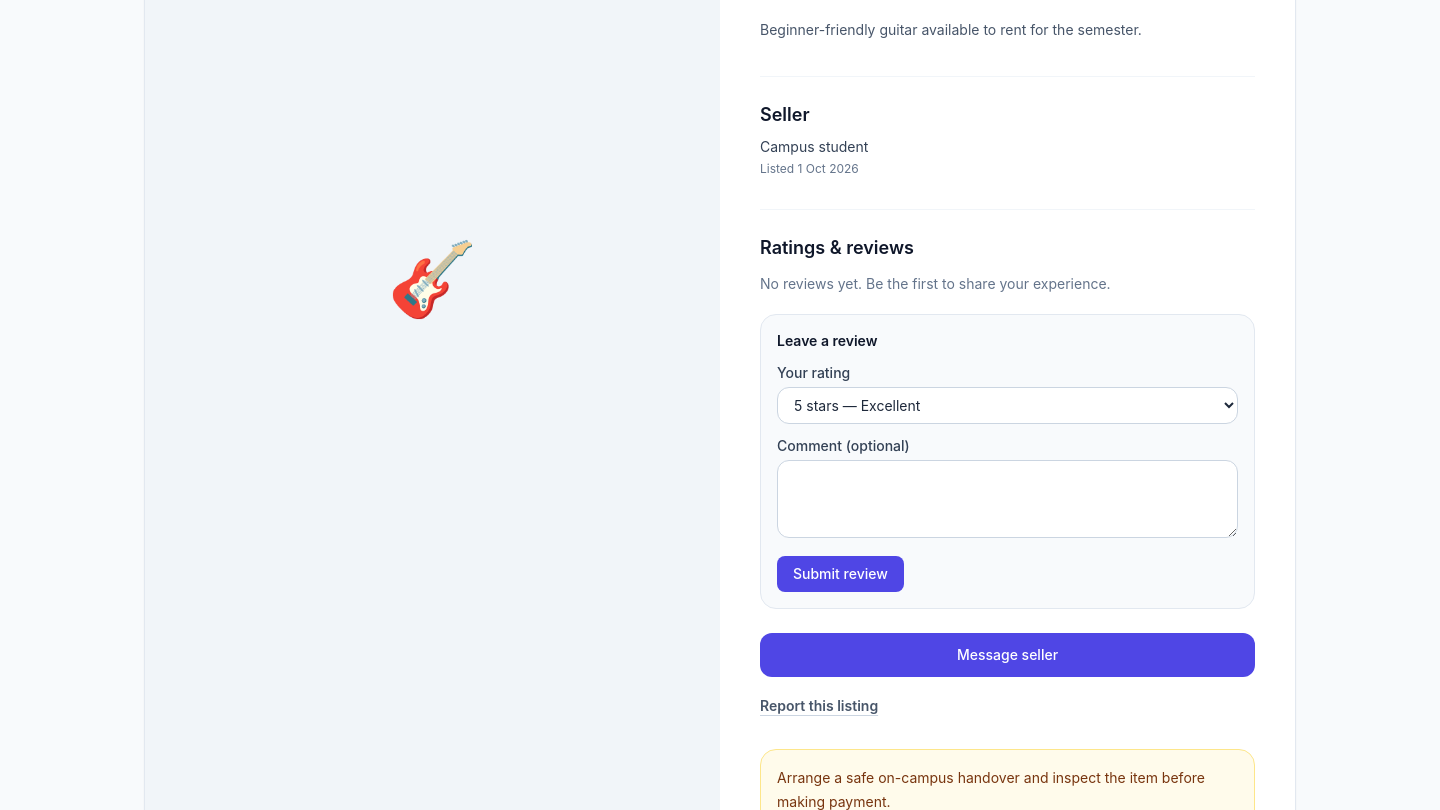
it: Product details › submits a listing review and renders the updated listing and seller ratings
(page scrolled)
Select "4 stars — Good" in the dropdown labelled "Your rating" at (1008,406), box x1=777 y1=387 x2=1238 y2=424
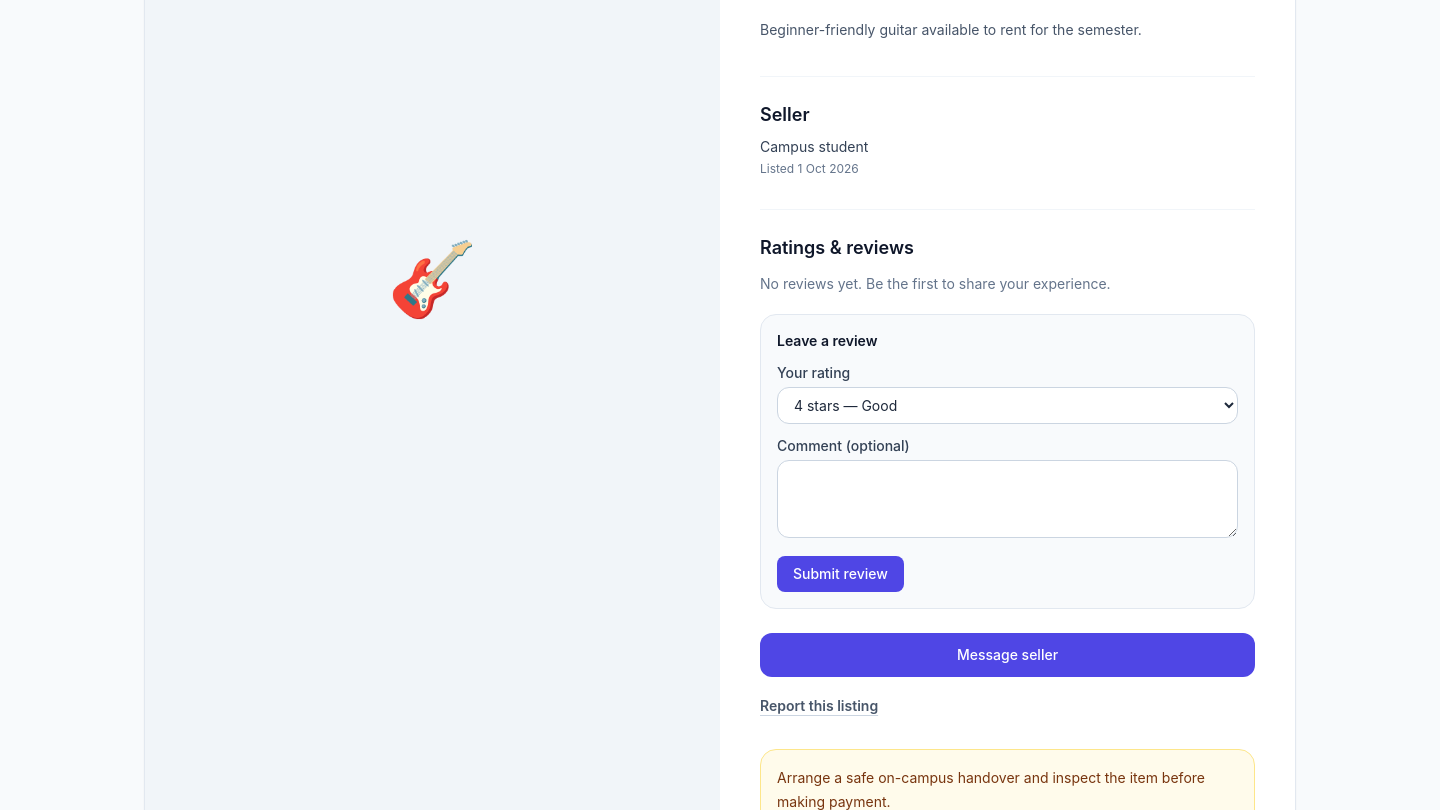
Type "Exactly as described." into the text box labelled "Comment (optional)" at (1008,499), box x1=777 y1=460 x2=1238 y2=538
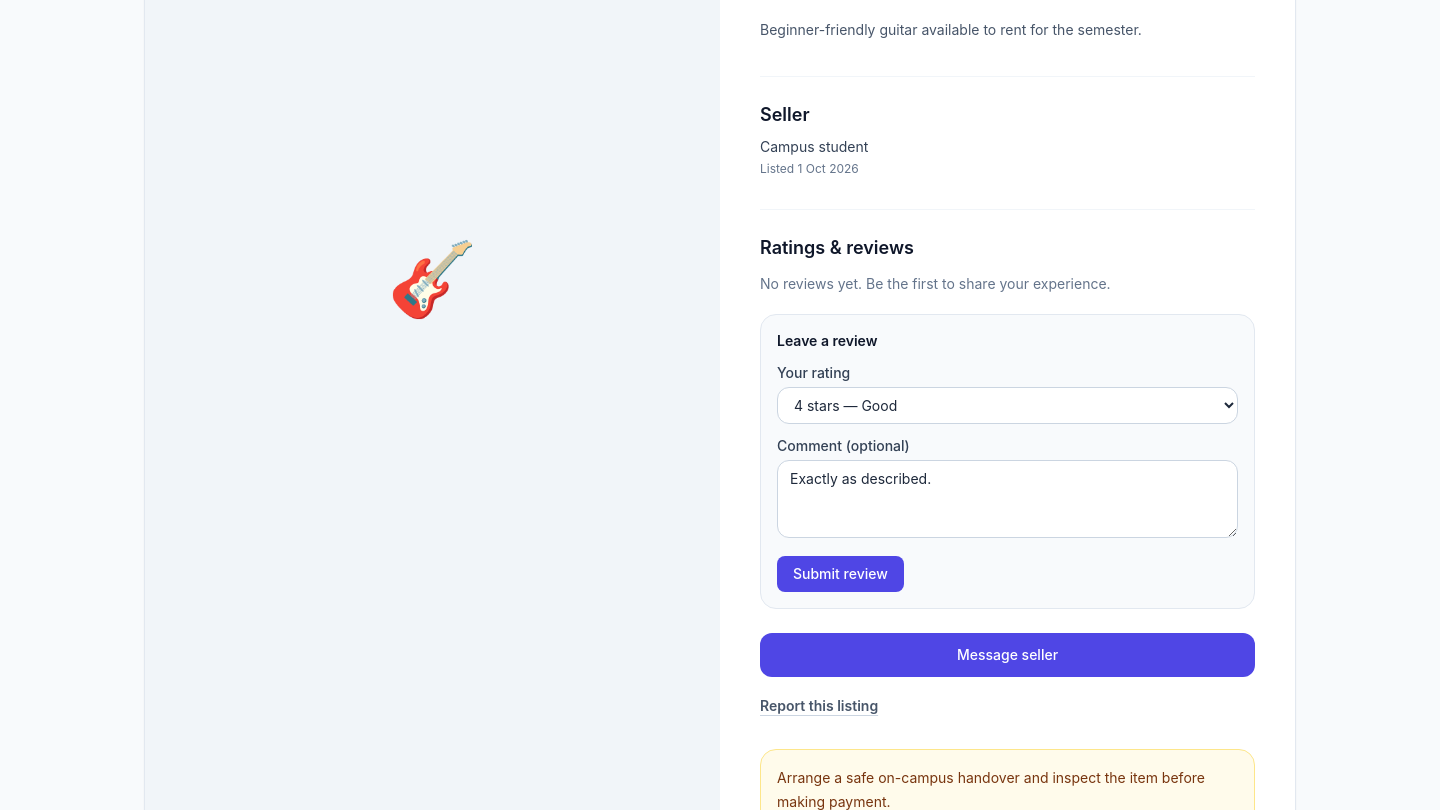
Click the button "Submit review" at (840,574), box x1=777 y1=556 x2=904 y2=592
(page scrolled)
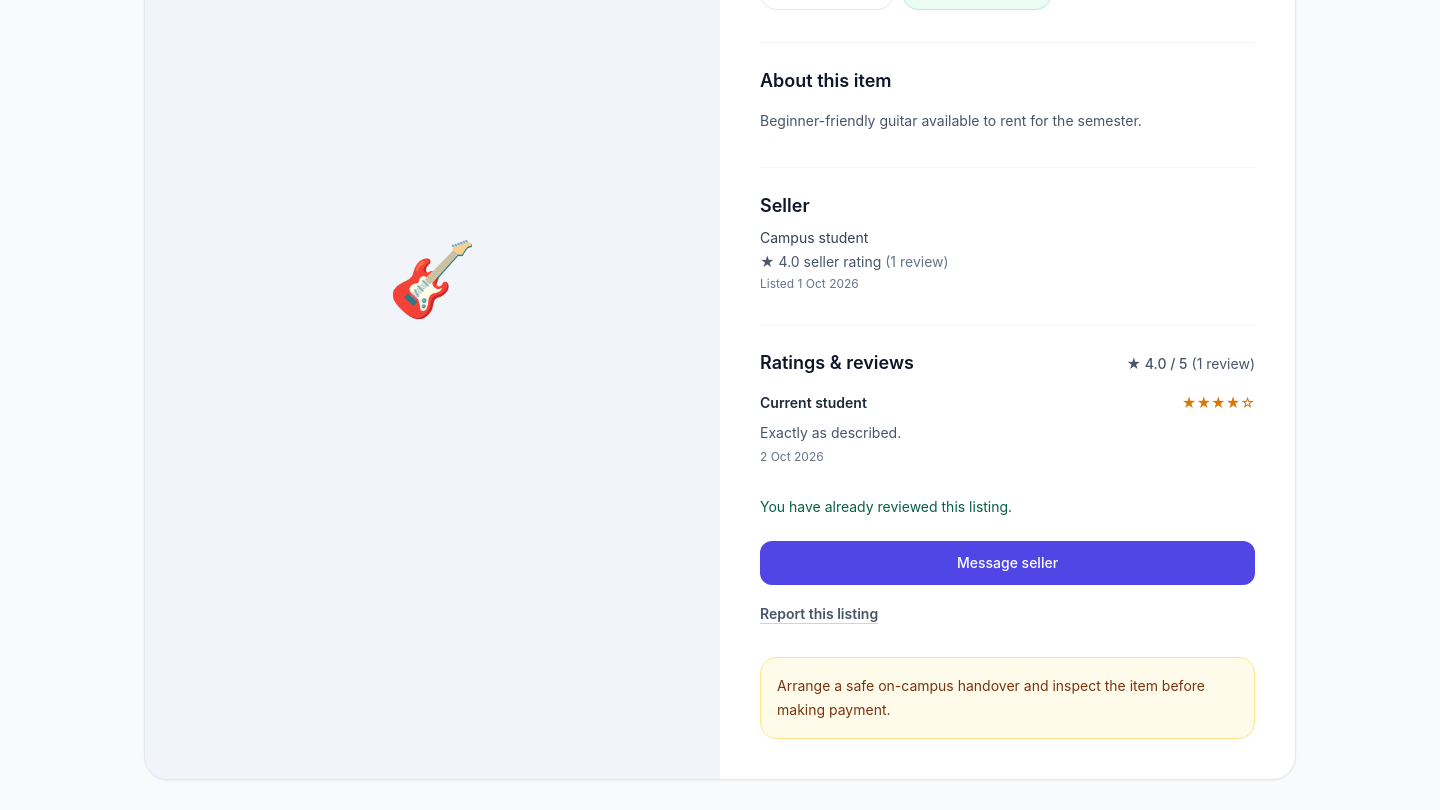
Result: the text "Exactly as described." is shown at x1=760 y1=424 x2=901 y2=441
Result: the text "★ 4.0 seller rating (1 review)" is shown at x1=760 y1=253 x2=949 y2=270
Result: the text "★ 4.0 / 5(1 review)" is shown at x1=1126 y1=354 x2=1255 y2=374
